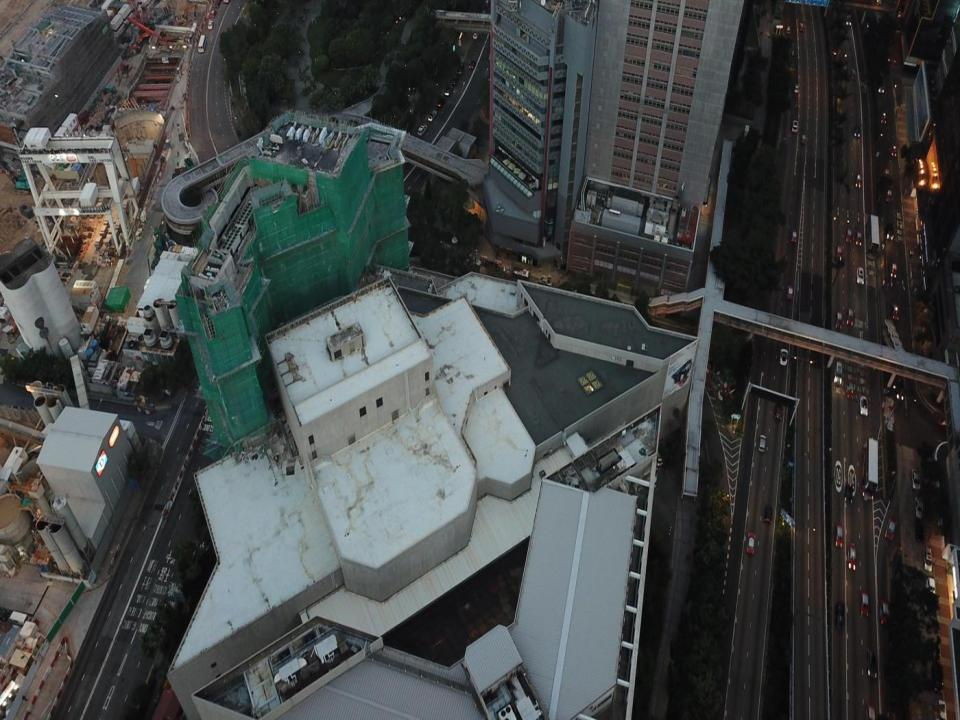bus: (862, 438, 879, 502), (866, 214, 881, 260), (198, 34, 206, 52)
car: (860, 586, 870, 620), (866, 650, 878, 677), (878, 599, 890, 625), (835, 601, 846, 629), (865, 699, 880, 719), (913, 493, 924, 518), (848, 540, 857, 570), (885, 517, 896, 540), (746, 531, 756, 554), (834, 522, 843, 546), (845, 483, 856, 502), (882, 161, 892, 181), (653, 448, 664, 466), (924, 546, 932, 570), (859, 396, 869, 415), (764, 503, 773, 524), (910, 468, 918, 491), (896, 381, 905, 401), (927, 576, 936, 596), (775, 400, 784, 419), (834, 308, 842, 329), (939, 698, 947, 719), (846, 379, 854, 399), (758, 432, 766, 452), (846, 306, 854, 324), (856, 267, 864, 285), (468, 256, 481, 267), (887, 220, 894, 240), (892, 303, 900, 320), (876, 74, 884, 91), (885, 183, 892, 202), (436, 95, 447, 107), (836, 242, 843, 260), (890, 263, 898, 278), (444, 85, 454, 97), (780, 348, 787, 365), (854, 170, 860, 189), (881, 106, 887, 125), (854, 231, 862, 245), (890, 142, 898, 156), (539, 278, 553, 286), (791, 228, 798, 243), (428, 108, 436, 121), (418, 124, 427, 135), (853, 124, 859, 140), (792, 82, 800, 94), (451, 75, 459, 86), (832, 42, 837, 58), (787, 284, 793, 297), (846, 14, 852, 27), (847, 231, 853, 243), (799, 20, 805, 32), (472, 28, 478, 40), (851, 66, 856, 80), (468, 60, 476, 68), (210, 9, 217, 18), (801, 132, 807, 142), (457, 64, 463, 73), (788, 22, 792, 35), (794, 120, 798, 132), (208, 20, 212, 31)
van: (833, 360, 844, 387)
